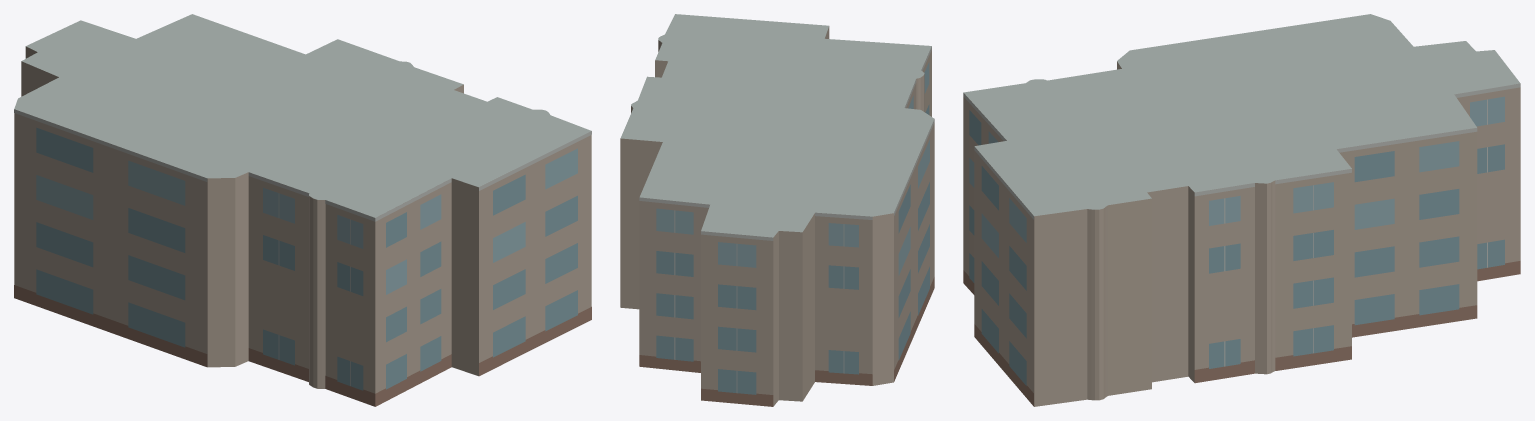
File: survey-upis-33011680.glb
3 renders of one model, left to right at view 1: azimuth 30°, elevation 25°; view 2: azimuth 150°, elevation 25°; view 3: azimuth 270°, elevation 25°, orthographic. The views are drawn at different scales.
Parts seen in each view (by area): view 1: survey-upis-33011680.tmp; view 2: survey-upis-33011680.tmp; view 3: survey-upis-33011680.tmp.
Part boxes in pixels (box(x1,y1,x2,y2)): survey-upis-33011680.tmp: box(14, 14, 591, 406); survey-upis-33011680.tmp: box(620, 14, 934, 406); survey-upis-33011680.tmp: box(963, 14, 1520, 406).
Size of the model in its own units: 27.08 by 11.9 by 31.53.
